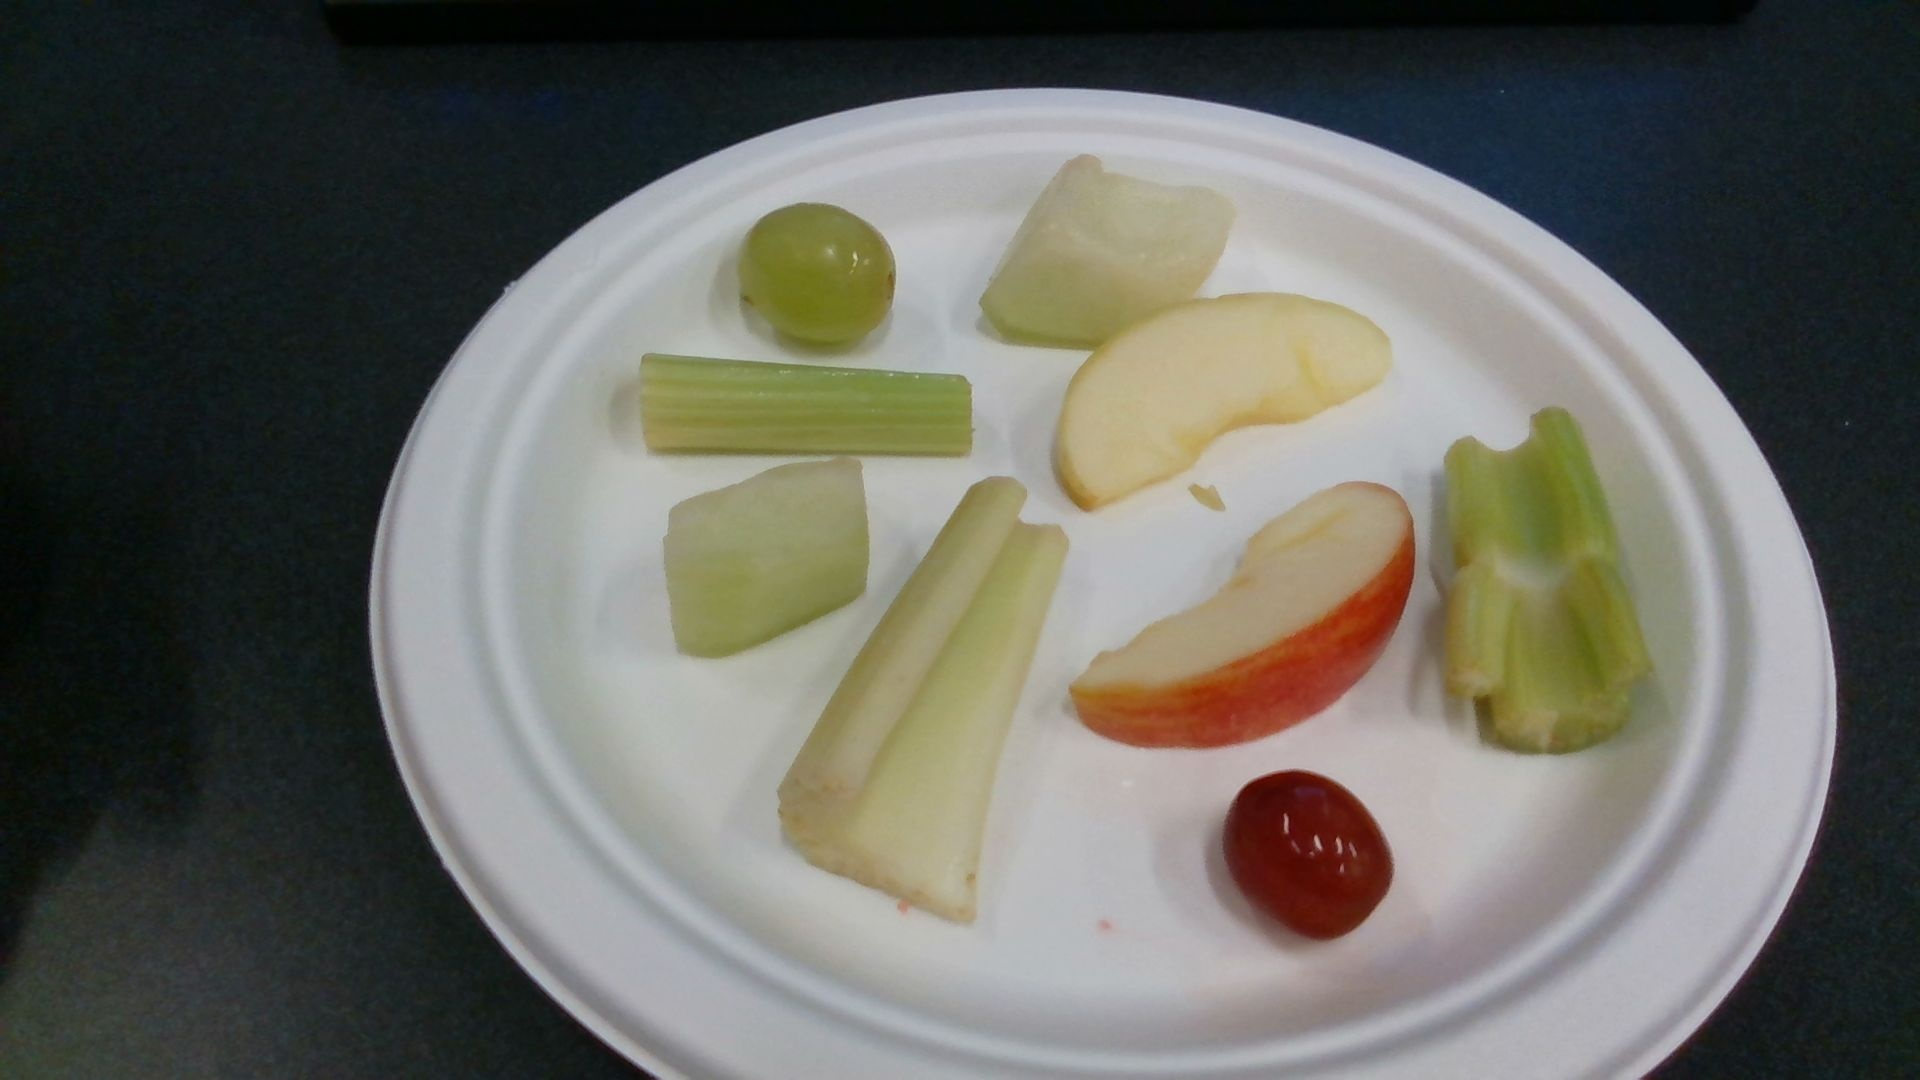apple: (1073, 481, 1415, 750), (1054, 295, 1394, 510)
cantalope: (980, 158, 1237, 335), (667, 462, 869, 655)
celery: (785, 477, 1067, 918), (1447, 406, 1648, 749), (640, 351, 975, 455)
grape_green: (742, 204, 895, 343)
grape_purple: (1225, 773, 1394, 940)
